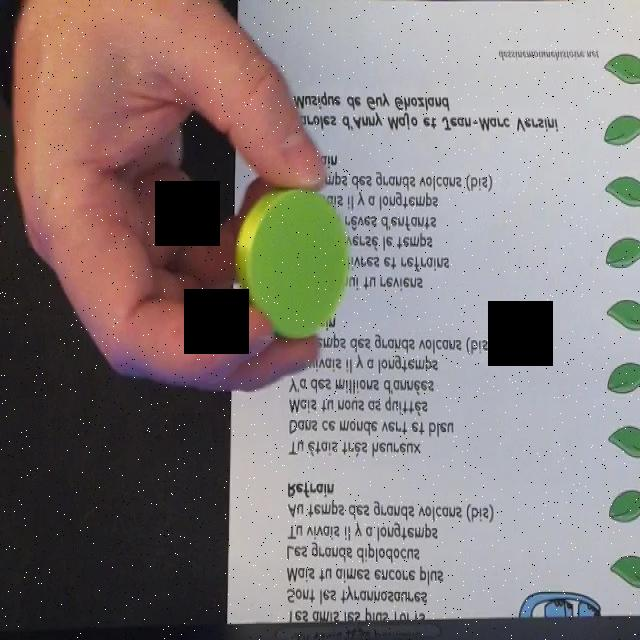round: (236, 187, 348, 341)
